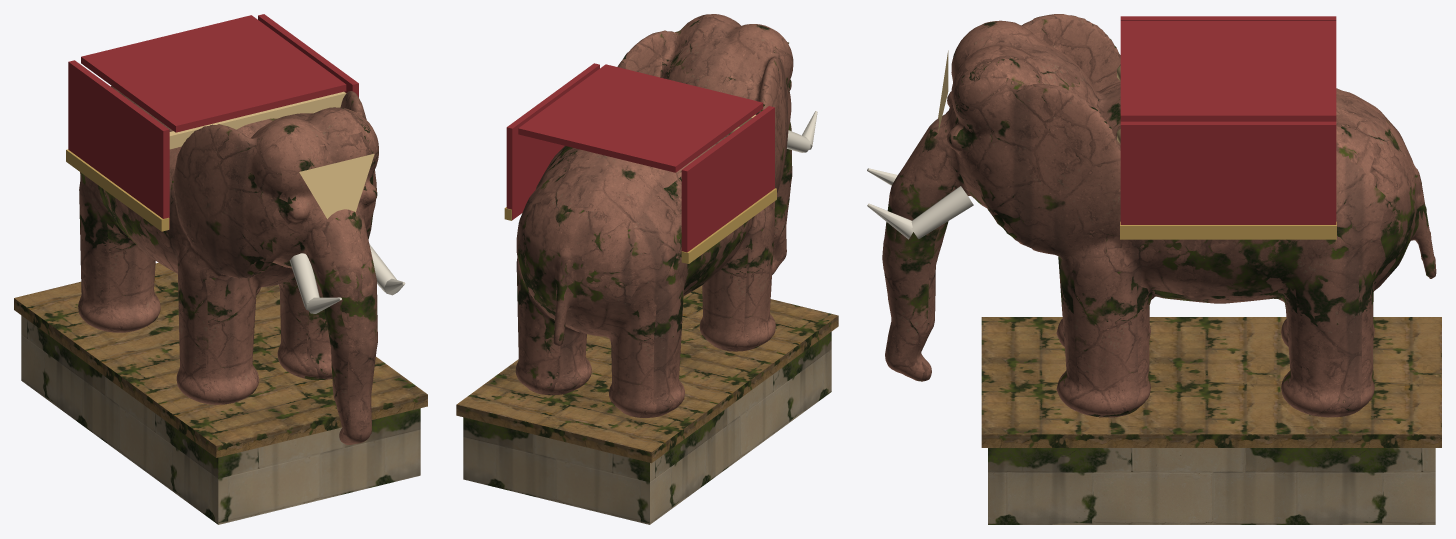
Rendered from ElephantStatue.fbx.
3 views of the same model, side by side, from view 1: azimuth 30°, elevation 25°; view 2: azimuth 150°, elevation 25°; view 3: azimuth 270°, elevation 25° (orthographic). The views are drawn at different scales.
Visible parts, largest first — view 1: ElephantStatue_LOD0; view 2: ElephantStatue_LOD0; view 3: ElephantStatue_LOD0.
Boxes of the visible parts, x1,y1,x2,y2 form: ElephantStatue_LOD0: (14,14,427,524); ElephantStatue_LOD0: (456,14,838,524); ElephantStatue_LOD0: (867,14,1441,524).
Size of what is drawn, in the model's own units: 3.35 by 5.74 by 6.93.
